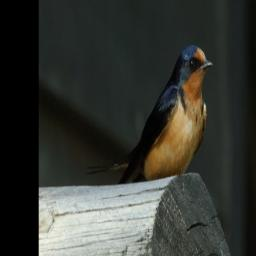Swallow: (84, 44, 214, 184)
